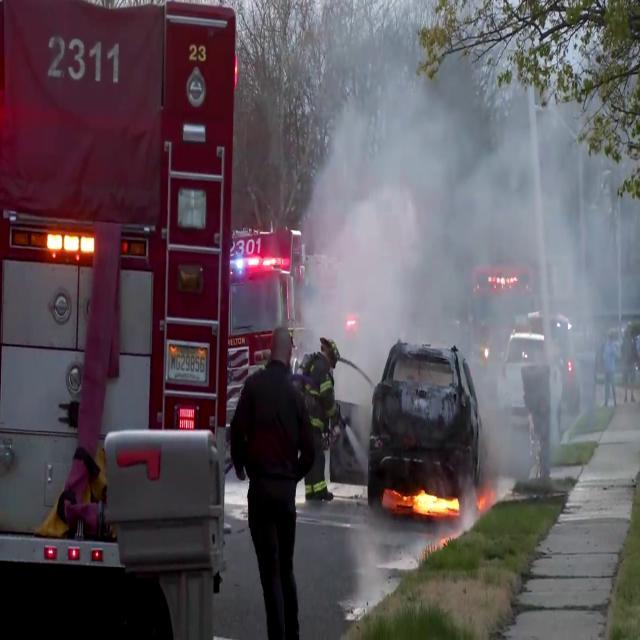Fire: (394, 481, 460, 518)
Smoke: (299, 25, 639, 431)
